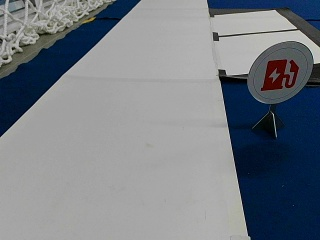battery: (247, 40, 312, 103)
